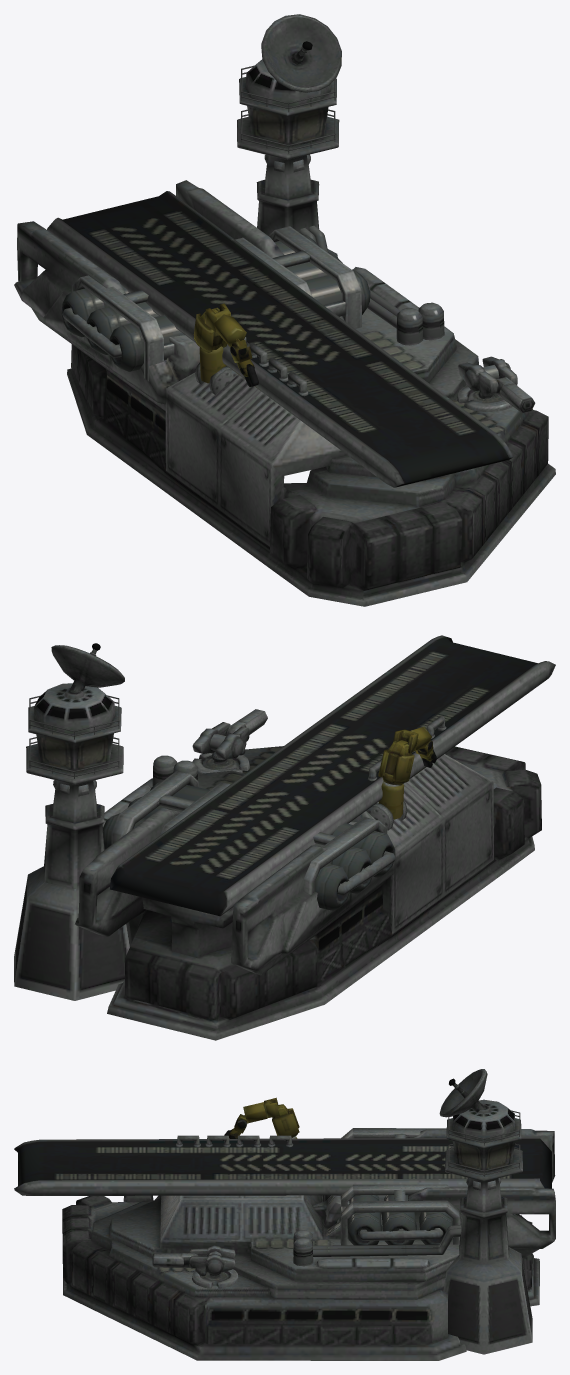
File: UPLAirstrip.glb
3 views of the same model, one above another, from view 1: azimuth 30°, elevation 25°; view 2: azimuth 150°, elevation 25°; view 3: azimuth 270°, elevation 25° (orthographic). The views are drawn at different scales.
Parts seen in each view (by area): view 1: Mesh; view 2: Mesh; view 3: Mesh.
Part boxes in pixels (bbox=[...]): Mesh: bbox=[14, 14, 555, 606]; Mesh: bbox=[14, 635, 555, 1040]; Mesh: bbox=[14, 1069, 555, 1360].
Bounding box in the file's own units: 2.25 × 2.17 × 4.11.
1 material, 1 textured.
